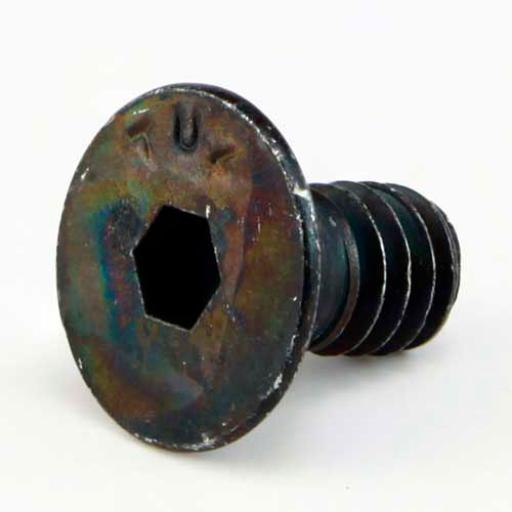Hex-Allen: (56, 80, 314, 455)
